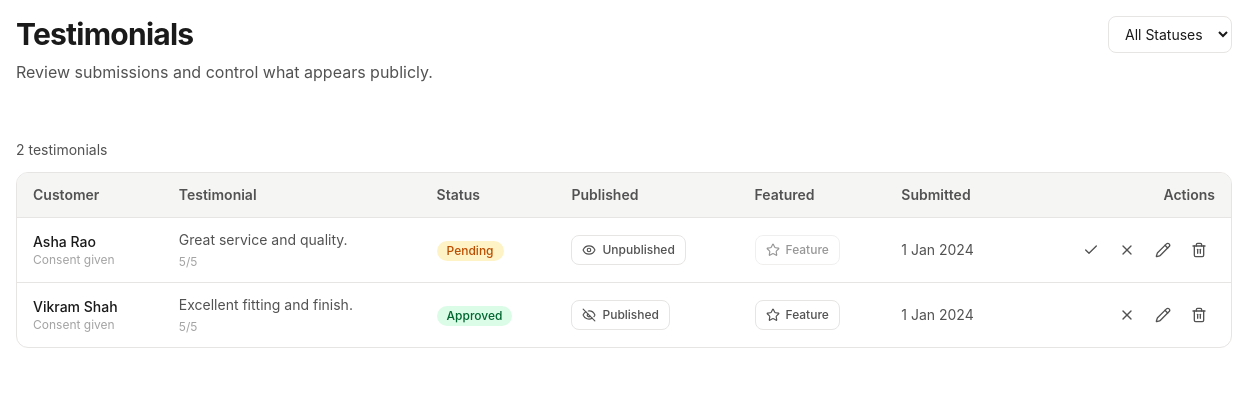
Test: TestimonialsAdminPage › shows an error alert when a row action fails
This screenshot has width=1249, height=417.
Check: the text "Asha Rao" is shown, box [33,233,96,250]
Click the button named "approve testimonial from asha rao" at (1091, 250), box [1075,234,1107,266]
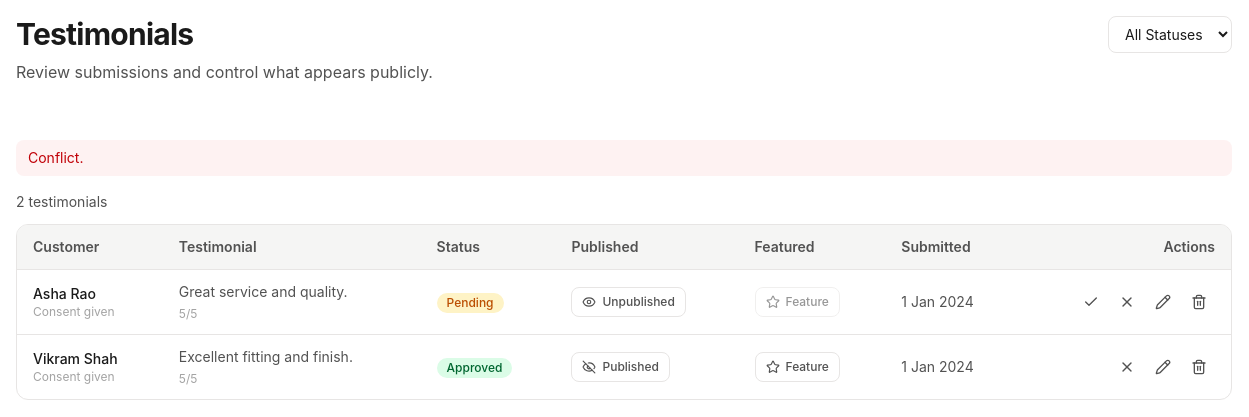
Check: the message reads "Conflict.", box [28,149,84,166]
